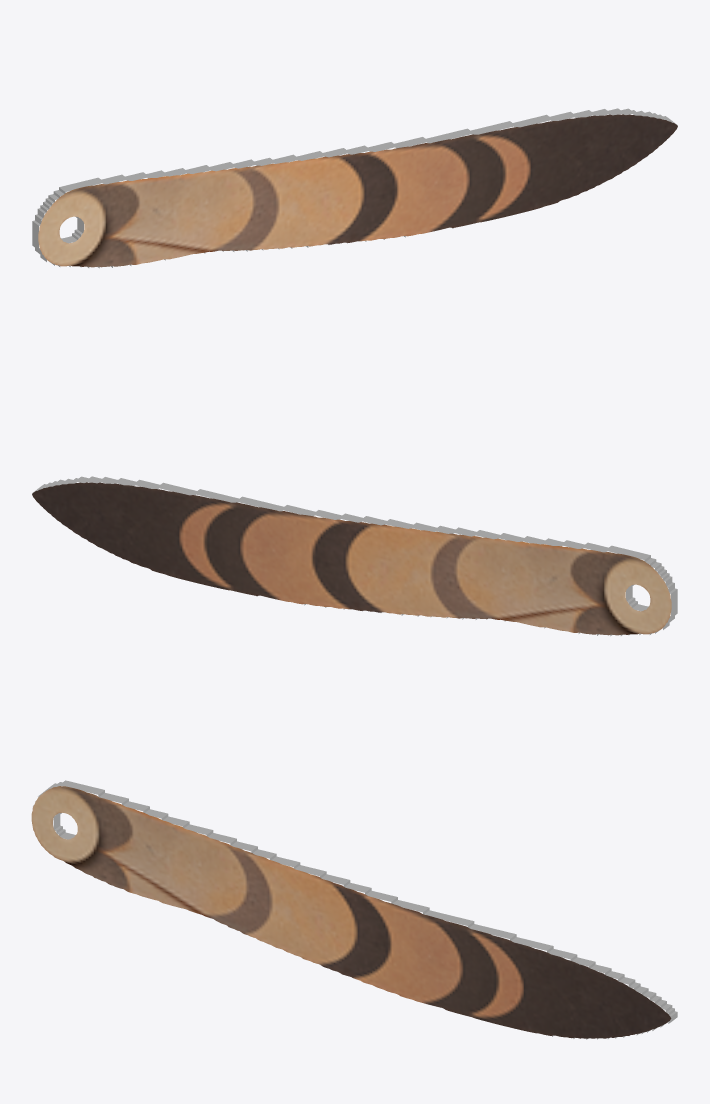
The model's file is FlightRight02.glb.
3 renders of one model, top to bottom at view 1: azimuth 30°, elevation 25°; view 2: azimuth 150°, elevation 25°; view 3: azimuth 330°, elevation 25°, orthographic.
Visible parts, largest first — view 1: PaperVolume; view 2: PaperVolume; view 3: PaperVolume.
Boxes of the visible parts, bbox=[...] form: PaperVolume: bbox=[32, 108, 677, 268]; PaperVolume: bbox=[32, 476, 677, 636]; PaperVolume: bbox=[31, 780, 677, 1039].
Size of the model in its own units: 4.66 by 1.12 by 0.08.
3 materials, 2 textured.
